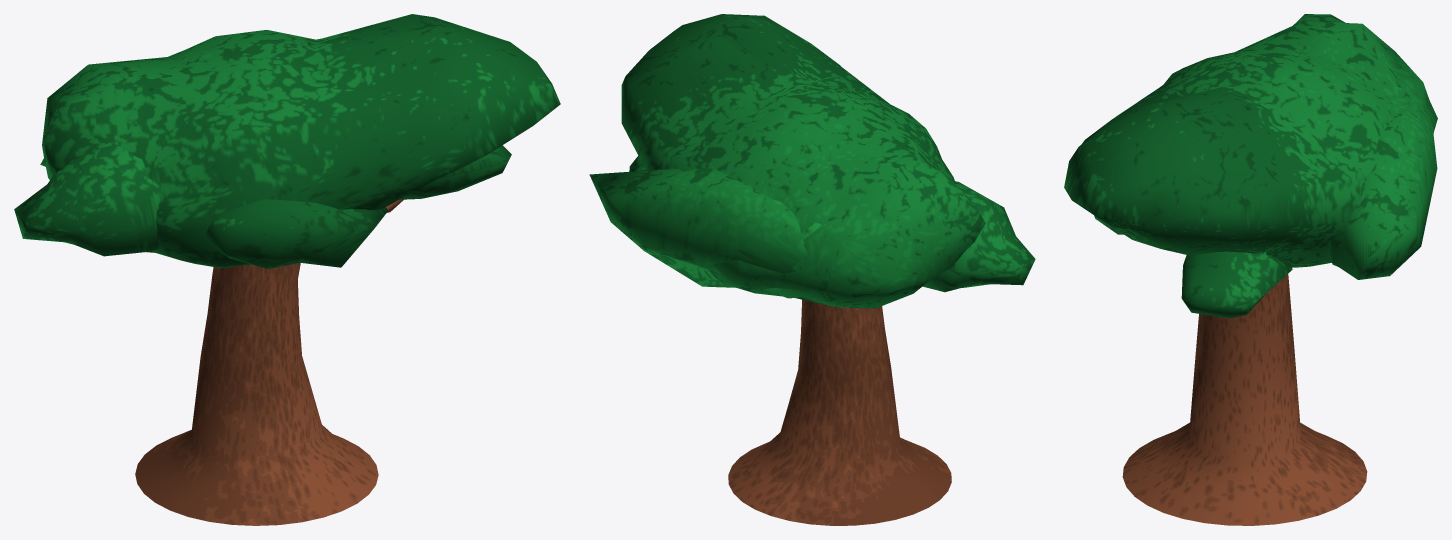
The model's file is tree1.glb.
3 views of the same model, side by side, from view 1: azimuth 30°, elevation 25°; view 2: azimuth 150°, elevation 25°; view 3: azimuth 270°, elevation 25° (orthographic). The views are drawn at different scales.
Parts seen in each view (by area): view 1: Leafs, Trunk; view 2: Leafs, Trunk; view 3: Leafs, Trunk.
Part boxes in pixels (<box>): Leafs: <box>14,14,560,268</box>; Trunk: <box>135,199,403,525</box>; Leafs: <box>589,14,1035,308</box>; Trunk: <box>728,299,951,525</box>; Leafs: <box>1064,14,1437,318</box>; Trunk: <box>1122,274,1367,525</box>.
Bounding box in the file's own units: 3.49 × 3.12 × 2.41.
Materials: 2 (2 with a texture image).
